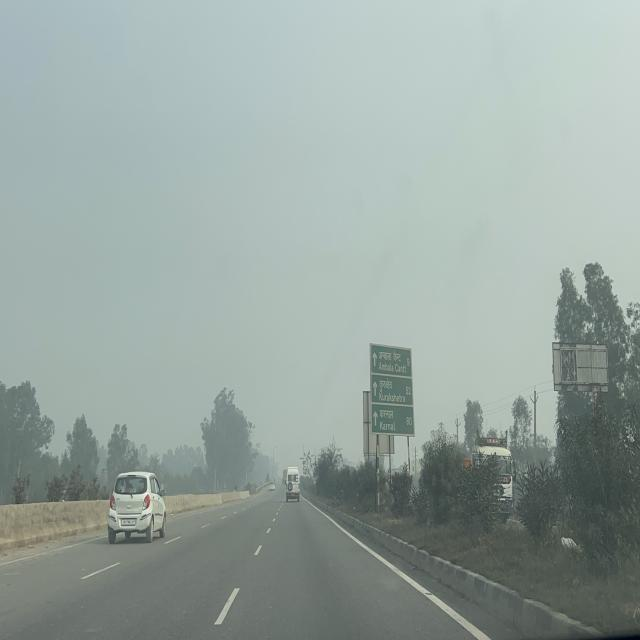GENERAL: (370, 342, 415, 434)
